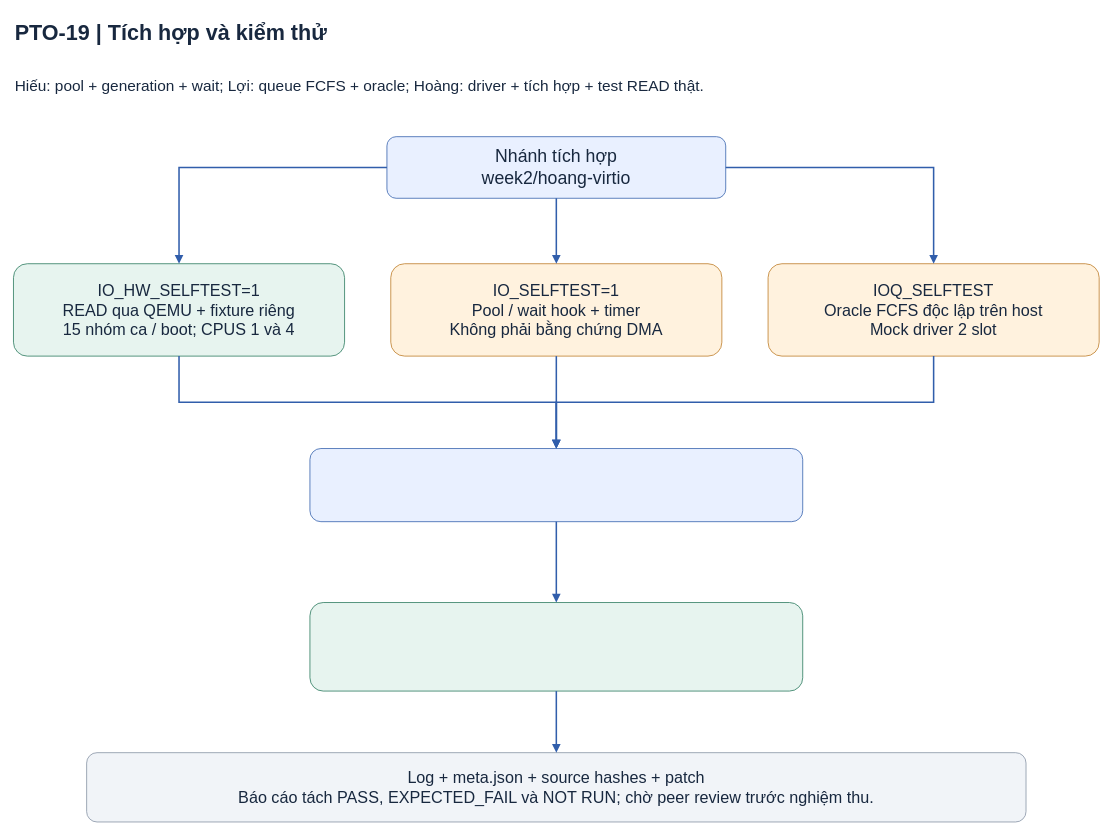
The diagram is 1113 pixels wide and 835 high, and some of its shapes have lost their labels. Each missing label, with the box of its shape:
Hồi quy production usertests -q: CPUS=1/4 grind 60s: CPUS=1/4; boot + shell: (309, 602, 803, 691)
make clean → build production Kiểm tra không còn test-hook symbols: (309, 448, 803, 522)
